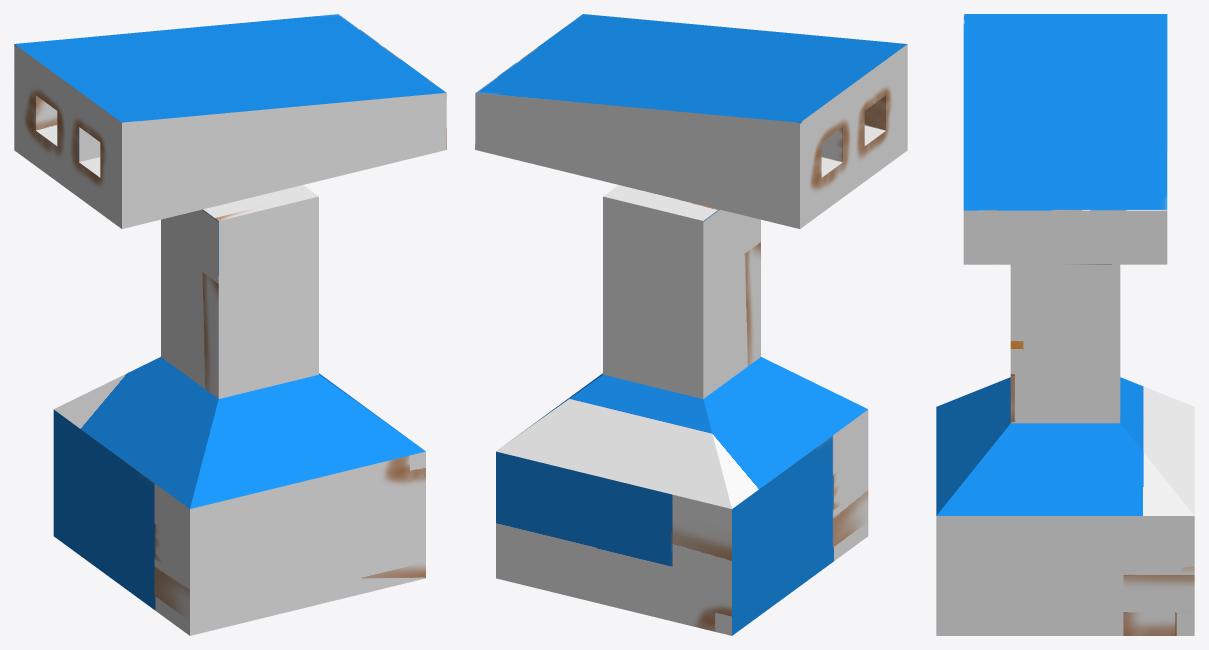
The model's file is Ustanovka.fbx.
3 views of the same model, side by side, from view 1: azimuth 30°, elevation 25°; view 2: azimuth 150°, elevation 25°; view 3: azimuth 270°, elevation 25° (orthographic). The views are drawn at different scales.
Parts seen in each view (by area): view 1: Cube.001, Cube; view 2: Cube.001, Cube; view 3: Cube.001, Cube.
Boxes of the visible parts, bbox=[...] form: Cube.001: bbox=[53, 185, 425, 635]; Cube: bbox=[14, 14, 446, 228]; Cube.001: bbox=[496, 185, 868, 635]; Cube: bbox=[475, 14, 907, 228]; Cube.001: bbox=[936, 264, 1194, 635]; Cube: bbox=[963, 14, 1167, 264].
Size of the model in its own units: 275 by 417 by 200.
